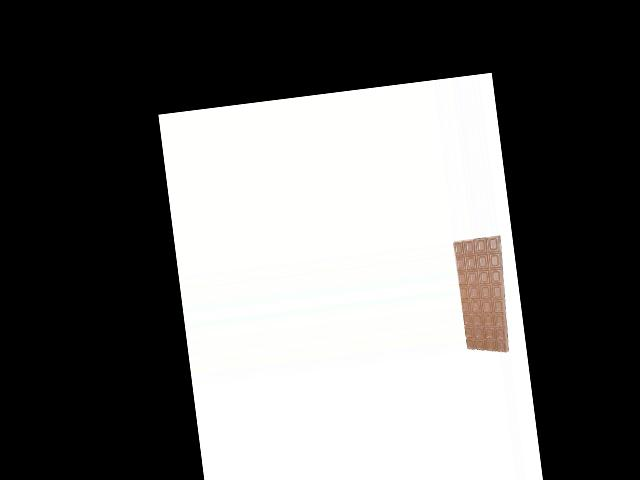chocolate: (452, 234, 513, 358)
